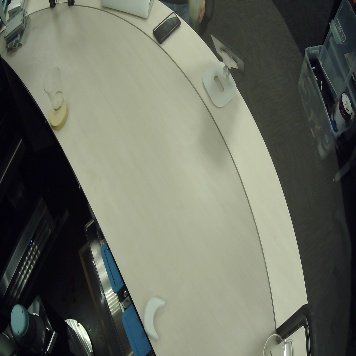empty_cup: (43, 66, 65, 111), (258, 329, 290, 356)
puck: (143, 296, 166, 341), (48, 103, 69, 131)
